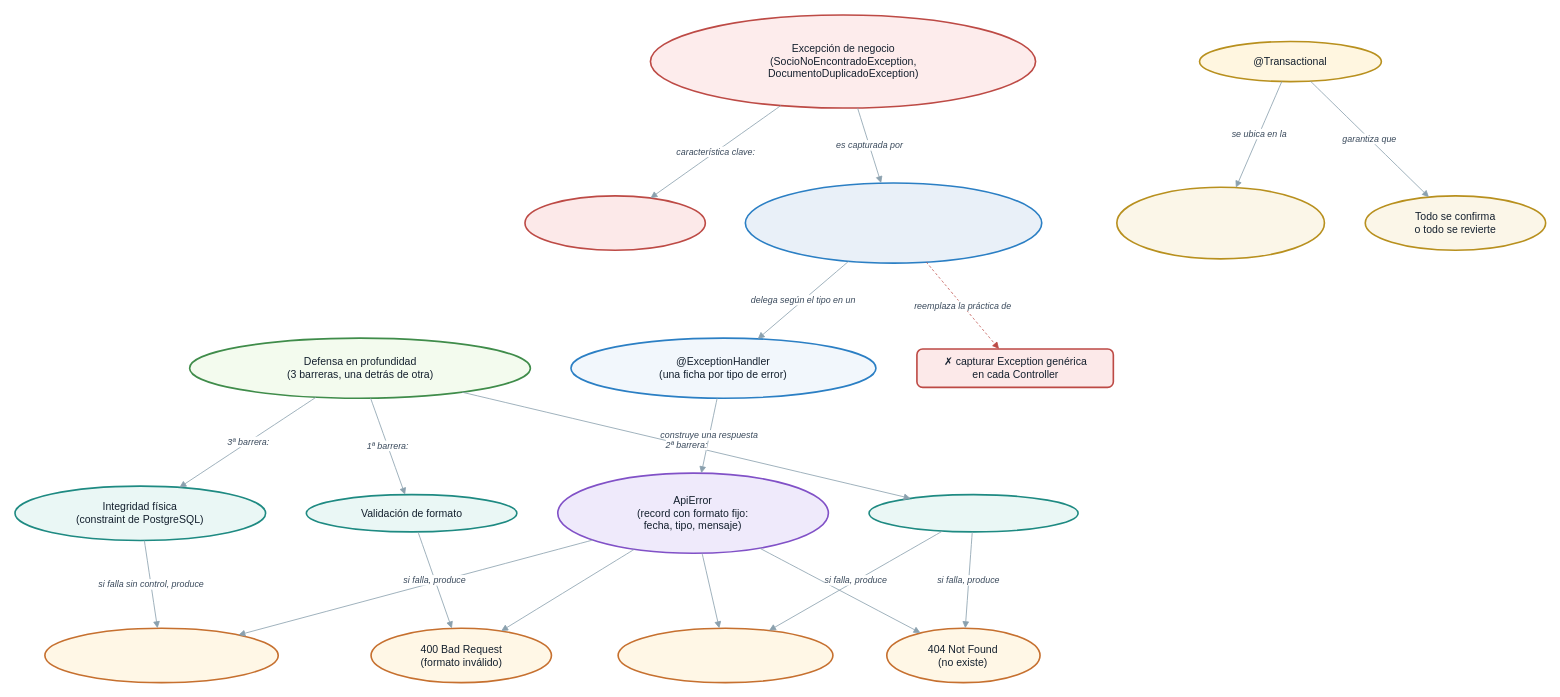
This 1560x697 diagram has some shape labels left out. The centre of each missing label's shape, as x and y in pixels:
"409 Conflict (ya existe / duplicado)" belongs at point (725, 655).
"500 Internal Server Error (fallo interno)" belongs at point (161, 655).
"@RestControllerAdvice (un único punto para todas las excepciones)" belongs at point (893, 223).
"Frontera natural: el Application Service (NO el Controller)" belongs at point (1220, 222).
"No conoce HTTP ni ResponseEntity" belongs at point (615, 223).
"Validación de negocio" belongs at point (973, 512).
